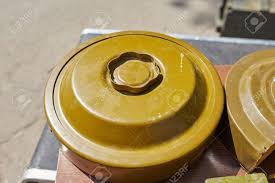car: (41, 25, 244, 183)
